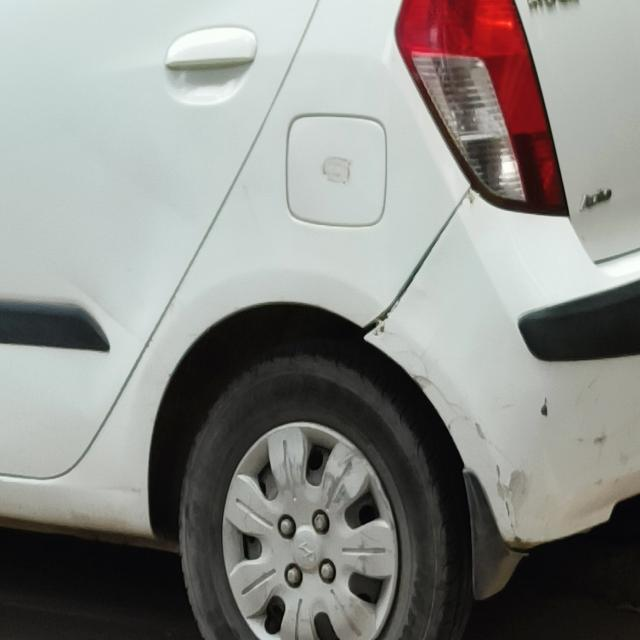scratch: (390, 338, 537, 529), (523, 390, 640, 484)
